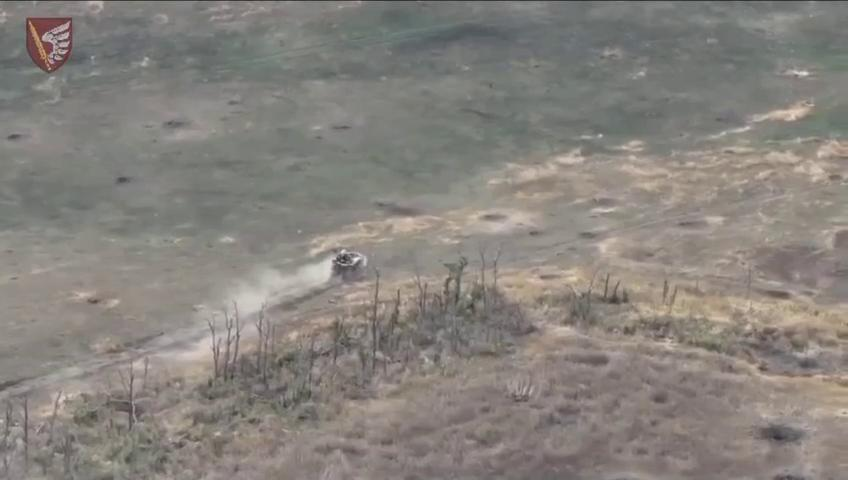tank: (329, 249, 372, 284)
